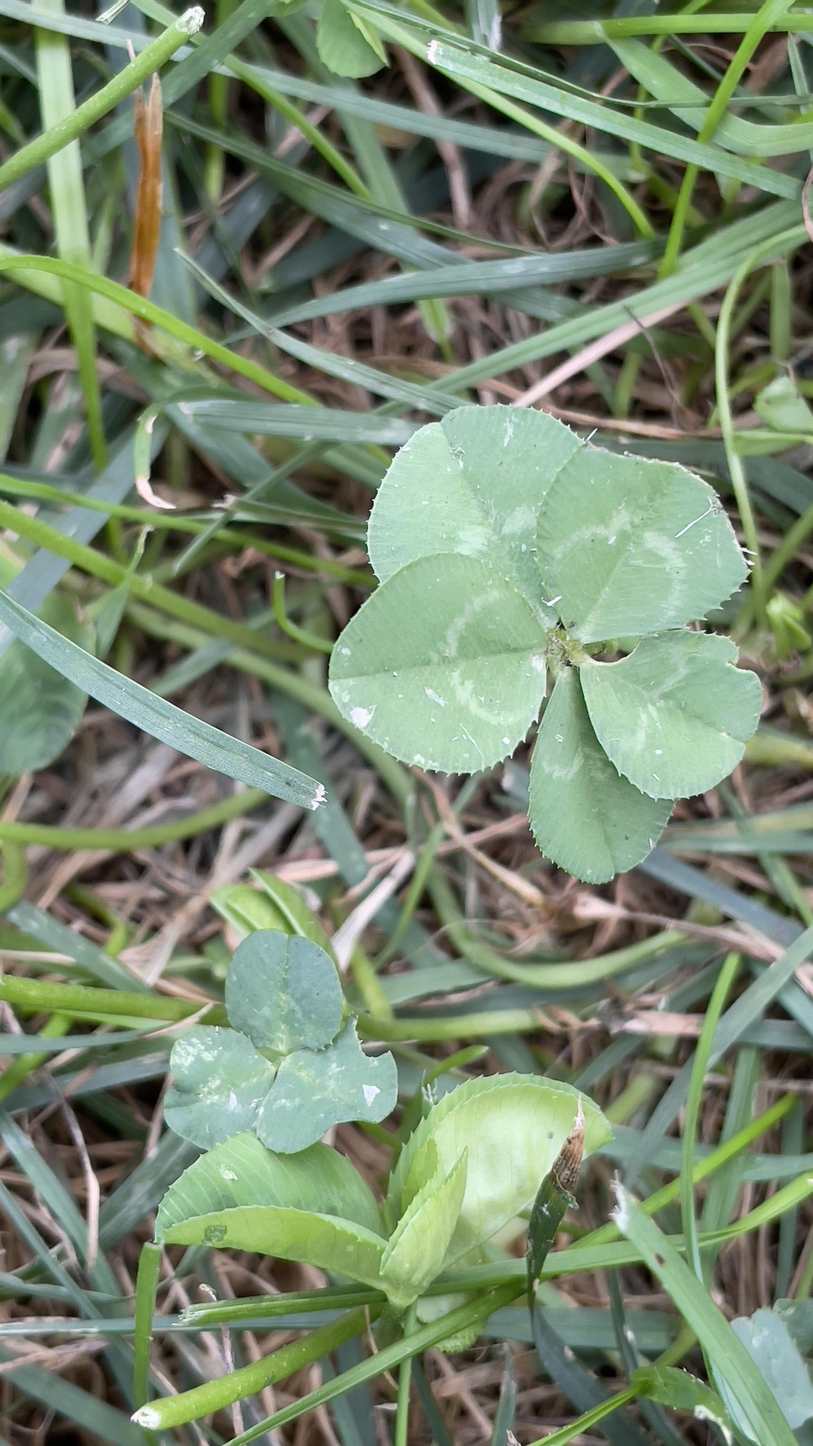5-Leaf-Clovers: (330, 402, 760, 886)
